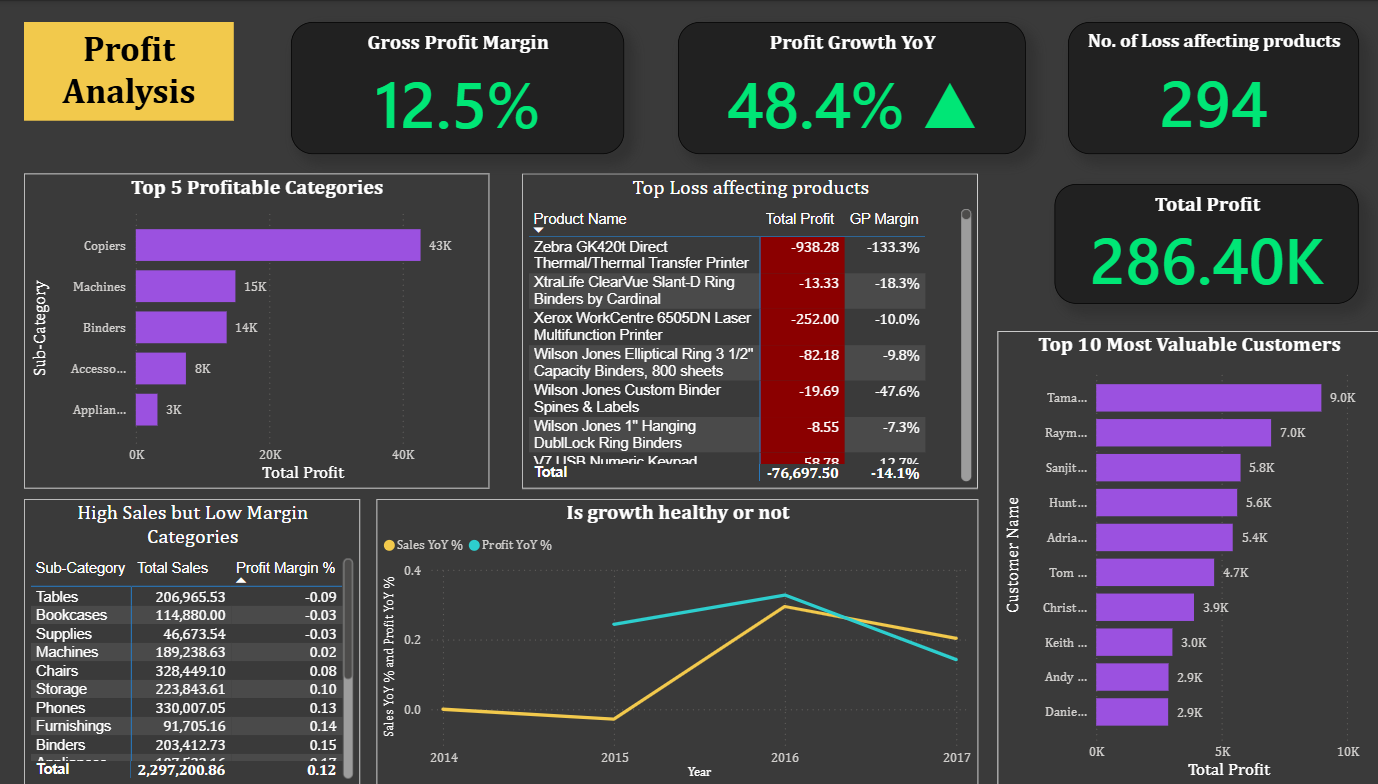

The page's visual inventory and layout, read from the dashboard file:
{"tool":"powerbi","page":{"name":"Profit","canvas":[1280,720],"ordinal":1},"visuals":[{"type":"card","title":"Total Profit","fields":{"Values":["Retails Order Full Dataset.Total Profit"]},"box":[593.7,19.3,294.8,121.2],"z":0},{"type":"card","title":"Gross Profit Margin","fields":{"Values":["Retails Order Full Dataset.GP Margin"]},"box":[267.3,19.3,305.8,121.2],"z":1000},{"type":"card","title":"No. of Loss affecting products","fields":{"Values":["Profit analysis.Loss Products Count"]},"box":[967.1,158.4,267.3,121.2],"z":2000},{"type":"card","title":"Profit Growth YoY","fields":{"Values":["Calendar.Profit YoY Display"]},"box":[940.9,19.3,319.6,121.2],"z":3000},{"type":"clusteredBarChart","title":"Top 5 Profitable Categories","fields":{"Category":["Product.Sub-Category"],"Y":["Retails Order Full Dataset.Total Profit"]},"box":[22,158.4,427,289.3],"z":4000},{"type":"pivotTable","title":"Top Loss affecting products","fields":{"Rows":["Product.Product Name"],"Values":["Retails Order Full Dataset.Total Profit","Retails Order Full Dataset.GP Margin"]},"box":[479.4,158.4,418.8,289.3],"z":5000},{"type":"barChart","title":"Top 10 Most Valuable Customers","fields":{"Category":["Customers.Customer Name"],"Y":["Retails Order Full Dataset.Total Profit"]},"box":[916.1,303.1,351.3,417.4],"z":6000},{"type":"lineChart","title":"Is growth healthy or not","fields":{"Category":["Calendar.Date.Variation.Date Hierarchy.Year","Calendar.Date.Variation.Date Hierarchy.Month","Calendar.Date.Variation.Date Hierarchy.Day"],"Y":["Calendar.Sales YoY %","Calendar.Profit YoY %"]},"box":[345.8,457.4,552.4,263.1],"z":7000},{"type":"pivotTable","title":"High Sales but Low Margin Categories","fields":{"Values":["Retails Order Full Dataset.Total Sales","Calendar.Profit Margin %"],"Rows":["Product.Sub-Category"]},"box":[22,457.4,308.6,263.1],"z":8000},{"type":"textbox","box":[22,19.3,192.9,90.9],"z":9000}]}

Visuals, with their boxes in screenshot pixels (x1, y1, x2, y2), scaled from the page's 1280x720 canvas onto the 1378x784 screenshot:
"Total Profit" card: detection(639, 21, 957, 153)
"Gross Profit Margin" card: detection(288, 21, 617, 153)
"No. of Loss affecting products" card: detection(1041, 172, 1329, 304)
"Profit Growth YoY" card: detection(1013, 21, 1357, 153)
"Top 5 Profitable Categories" clusteredBarChart: detection(24, 172, 483, 487)
"Top Loss affecting products" pivotTable: detection(516, 172, 967, 487)
"Top 10 Most Valuable Customers" barChart: detection(986, 330, 1364, 783)
"Is growth healthy or not" lineChart: detection(372, 498, 967, 783)
"High Sales but Low Margin Categories" pivotTable: detection(24, 498, 356, 783)
textbox: detection(24, 21, 231, 120)
